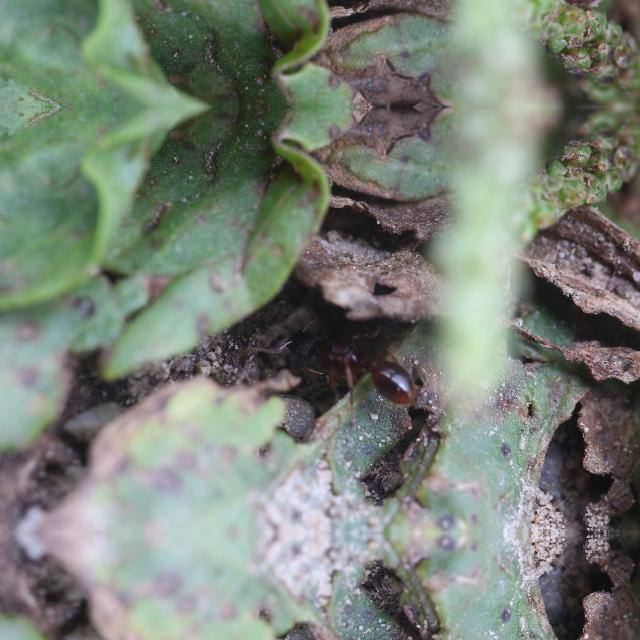Myrmica: (276, 312, 437, 408)
